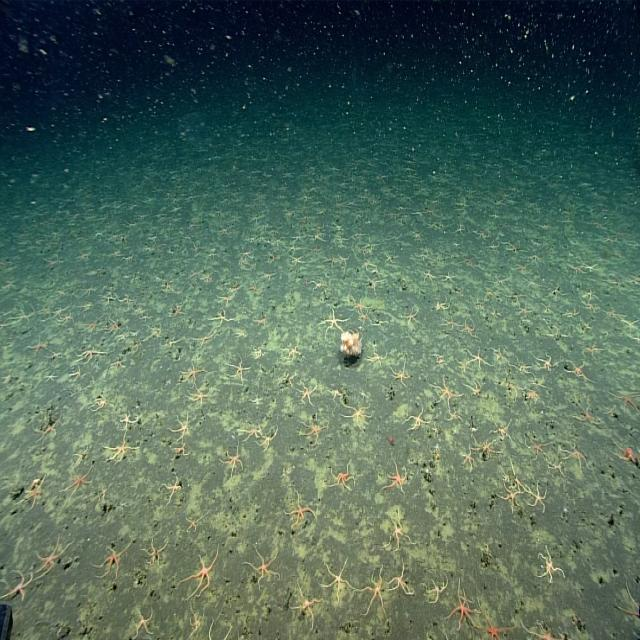brittle-stars: (182, 546, 220, 592), (0, 560, 30, 615), (360, 563, 390, 618), (322, 557, 354, 607), (383, 558, 419, 601), (450, 578, 480, 629), (289, 588, 320, 630), (536, 542, 562, 591), (36, 538, 66, 578), (423, 568, 448, 612), (247, 551, 274, 591), (21, 478, 53, 510), (285, 489, 311, 526), (381, 460, 408, 495), (302, 415, 327, 451), (340, 401, 374, 427), (560, 441, 590, 470), (522, 434, 550, 465), (99, 542, 123, 578), (389, 518, 413, 554), (330, 463, 359, 492), (127, 603, 153, 633), (314, 310, 344, 336), (609, 389, 640, 414), (27, 418, 59, 442), (139, 534, 167, 561), (483, 613, 510, 640), (155, 474, 180, 503), (404, 403, 429, 432), (524, 619, 558, 640), (432, 380, 459, 406), (529, 485, 550, 518), (573, 402, 600, 427), (624, 582, 640, 624), (108, 441, 132, 467), (77, 338, 104, 361), (500, 486, 520, 514), (8, 304, 33, 326), (64, 474, 88, 496), (221, 447, 238, 478), (362, 346, 386, 367), (86, 394, 112, 413), (388, 364, 415, 382), (619, 444, 640, 467), (472, 342, 488, 372), (174, 414, 192, 440), (210, 307, 232, 328), (401, 308, 424, 328), (299, 382, 318, 406), (499, 376, 519, 398), (521, 386, 541, 408), (259, 428, 278, 451), (464, 377, 484, 398), (240, 423, 262, 441), (568, 360, 586, 382), (188, 382, 206, 403), (228, 360, 246, 381), (480, 439, 498, 460), (457, 581, 472, 606), (536, 354, 558, 371), (461, 449, 477, 471), (494, 346, 510, 367), (169, 443, 188, 460), (460, 314, 474, 336), (184, 515, 198, 536), (106, 321, 124, 337), (182, 367, 195, 389), (495, 424, 509, 444), (513, 471, 524, 496), (29, 340, 46, 356), (99, 292, 116, 308), (442, 317, 458, 334), (516, 361, 532, 377), (87, 318, 102, 335), (434, 294, 449, 311), (122, 411, 136, 429), (550, 461, 566, 476), (546, 327, 564, 340), (514, 306, 533, 318), (198, 333, 212, 349), (350, 299, 366, 313), (582, 343, 599, 356), (286, 368, 298, 386), (457, 356, 467, 377), (329, 387, 345, 400), (357, 312, 373, 325), (156, 283, 173, 294), (43, 371, 56, 385), (251, 391, 263, 406), (508, 290, 524, 301), (52, 305, 65, 318), (235, 328, 249, 340), (49, 349, 60, 364), (446, 412, 464, 421), (74, 364, 84, 380), (218, 292, 234, 302), (111, 360, 124, 372), (148, 327, 160, 340), (260, 267, 275, 277), (307, 283, 325, 291), (434, 354, 448, 364), (364, 281, 378, 291), (172, 300, 181, 315), (254, 314, 265, 326), (549, 287, 561, 298), (286, 346, 299, 356), (200, 272, 216, 280), (65, 312, 75, 324), (580, 320, 590, 331), (122, 297, 134, 306), (250, 285, 260, 295), (433, 423, 440, 435), (564, 311, 578, 317), (586, 284, 594, 294), (132, 341, 139, 352), (83, 301, 91, 310), (587, 302, 598, 308), (138, 305, 142, 319), (506, 476, 510, 484), (146, 314, 149, 321)
